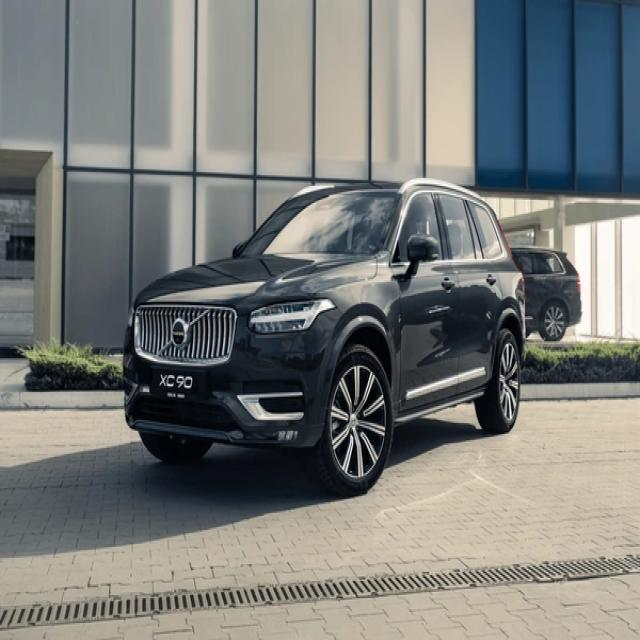volvo: (169, 318, 194, 348)
